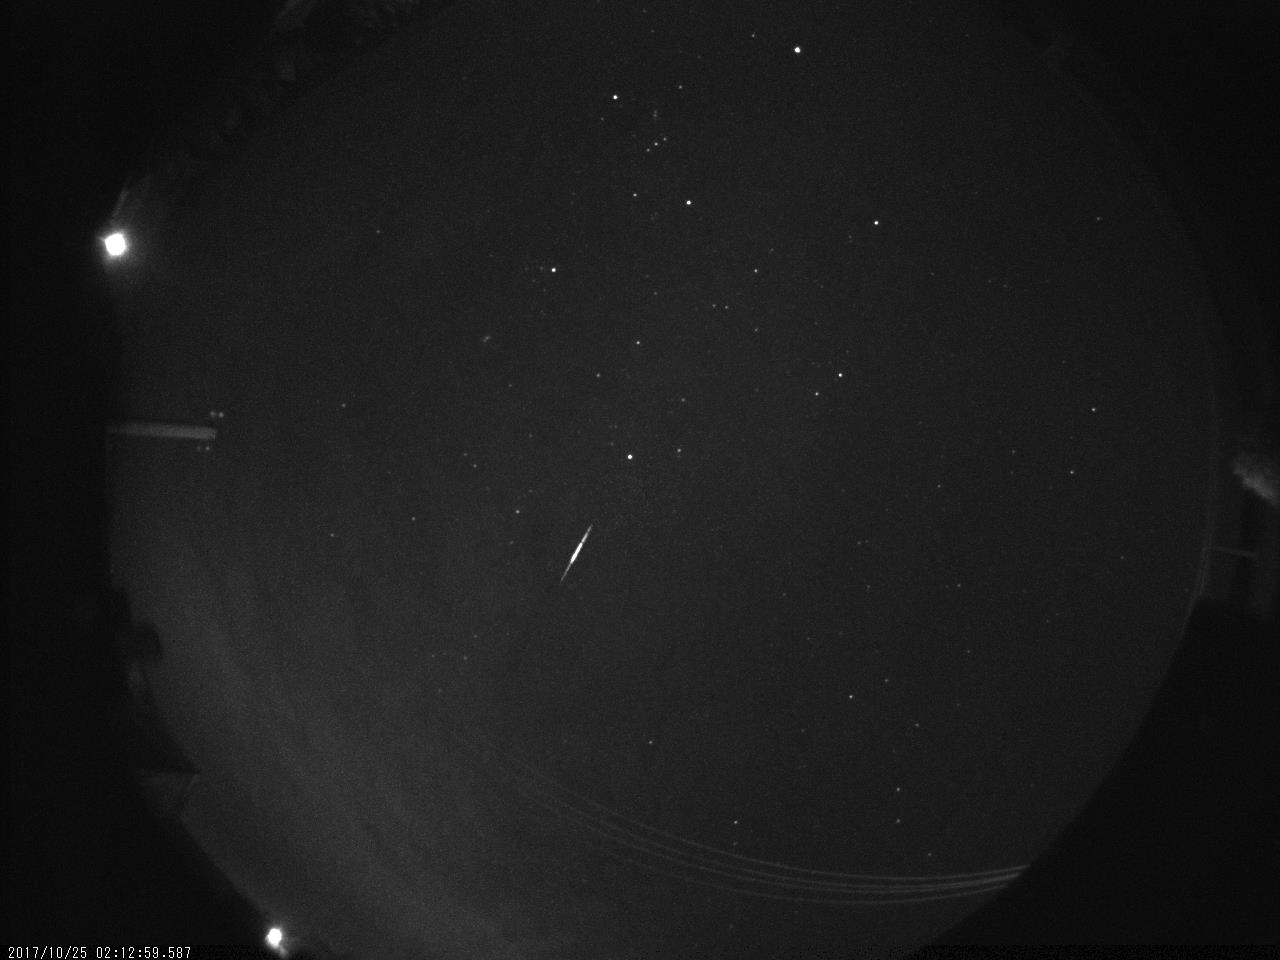meteor: (551, 521, 602, 585)
